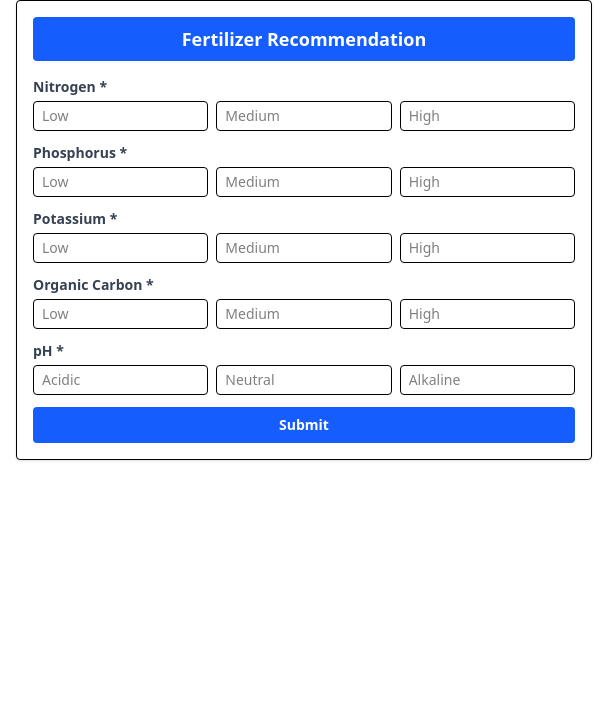
Test case: FertilizerRecommendation › should submit form and display fertilizer recommendation results
This screenshot has width=609, height=718.
// Fill required nitrogen fields using name attributes
Type "1" into the number field named "nLow".
click(121, 116); type("1")  # box [33,101,208,131]
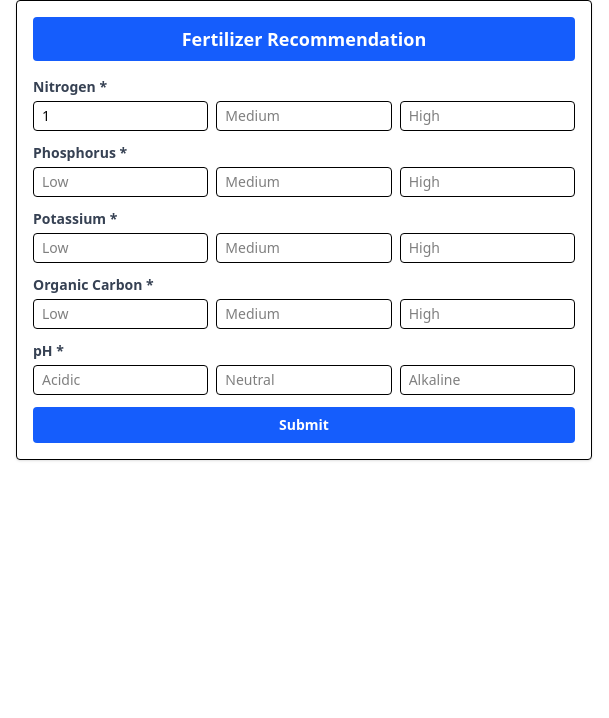
Type "2" into the number field named "nMedium".
click(304, 116); type("2")  # box [216,101,392,131]
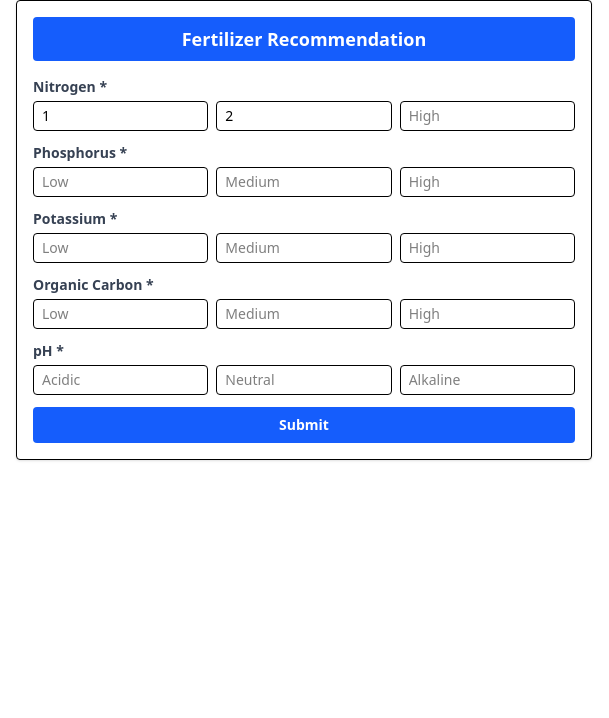
Type "3" into the number field named "nHigh".
click(487, 116); type("3")  # box [400,101,575,131]
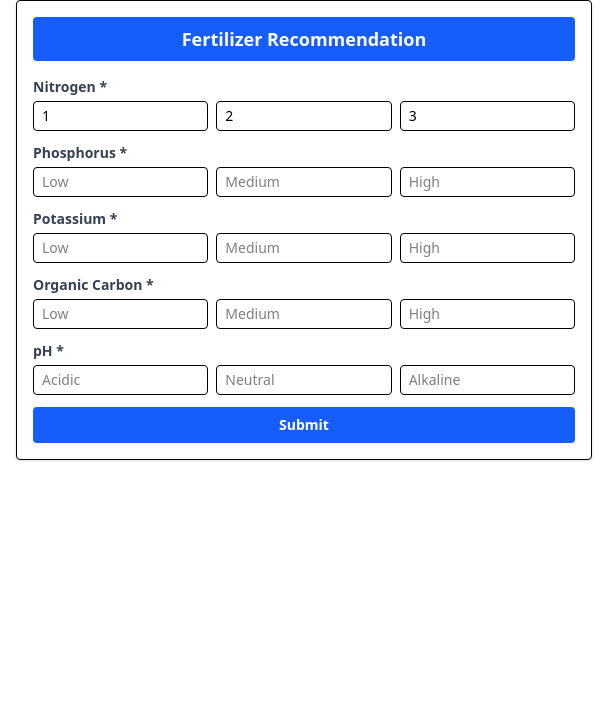
Click the button "Submit".
click(304, 425)  # box [33,407,575,443]
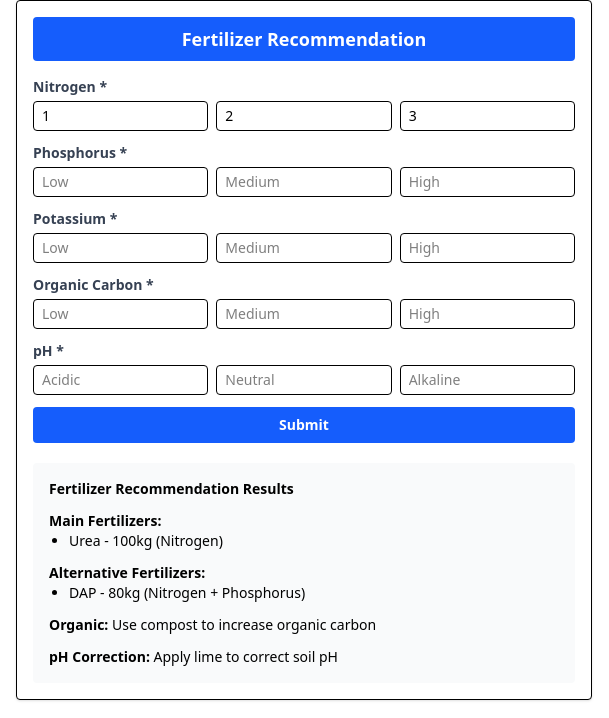
Result: the text "Fertilizer Recommendation Results" is shown at [49,479,294,498]
Result: the list item "Urea - 100kg (Nitrogen)" is shown at [69,531,223,550]
Result: the list item "DAP - 80kg (Nitrogen + Phosphorus)" is shown at [69,583,305,602]
